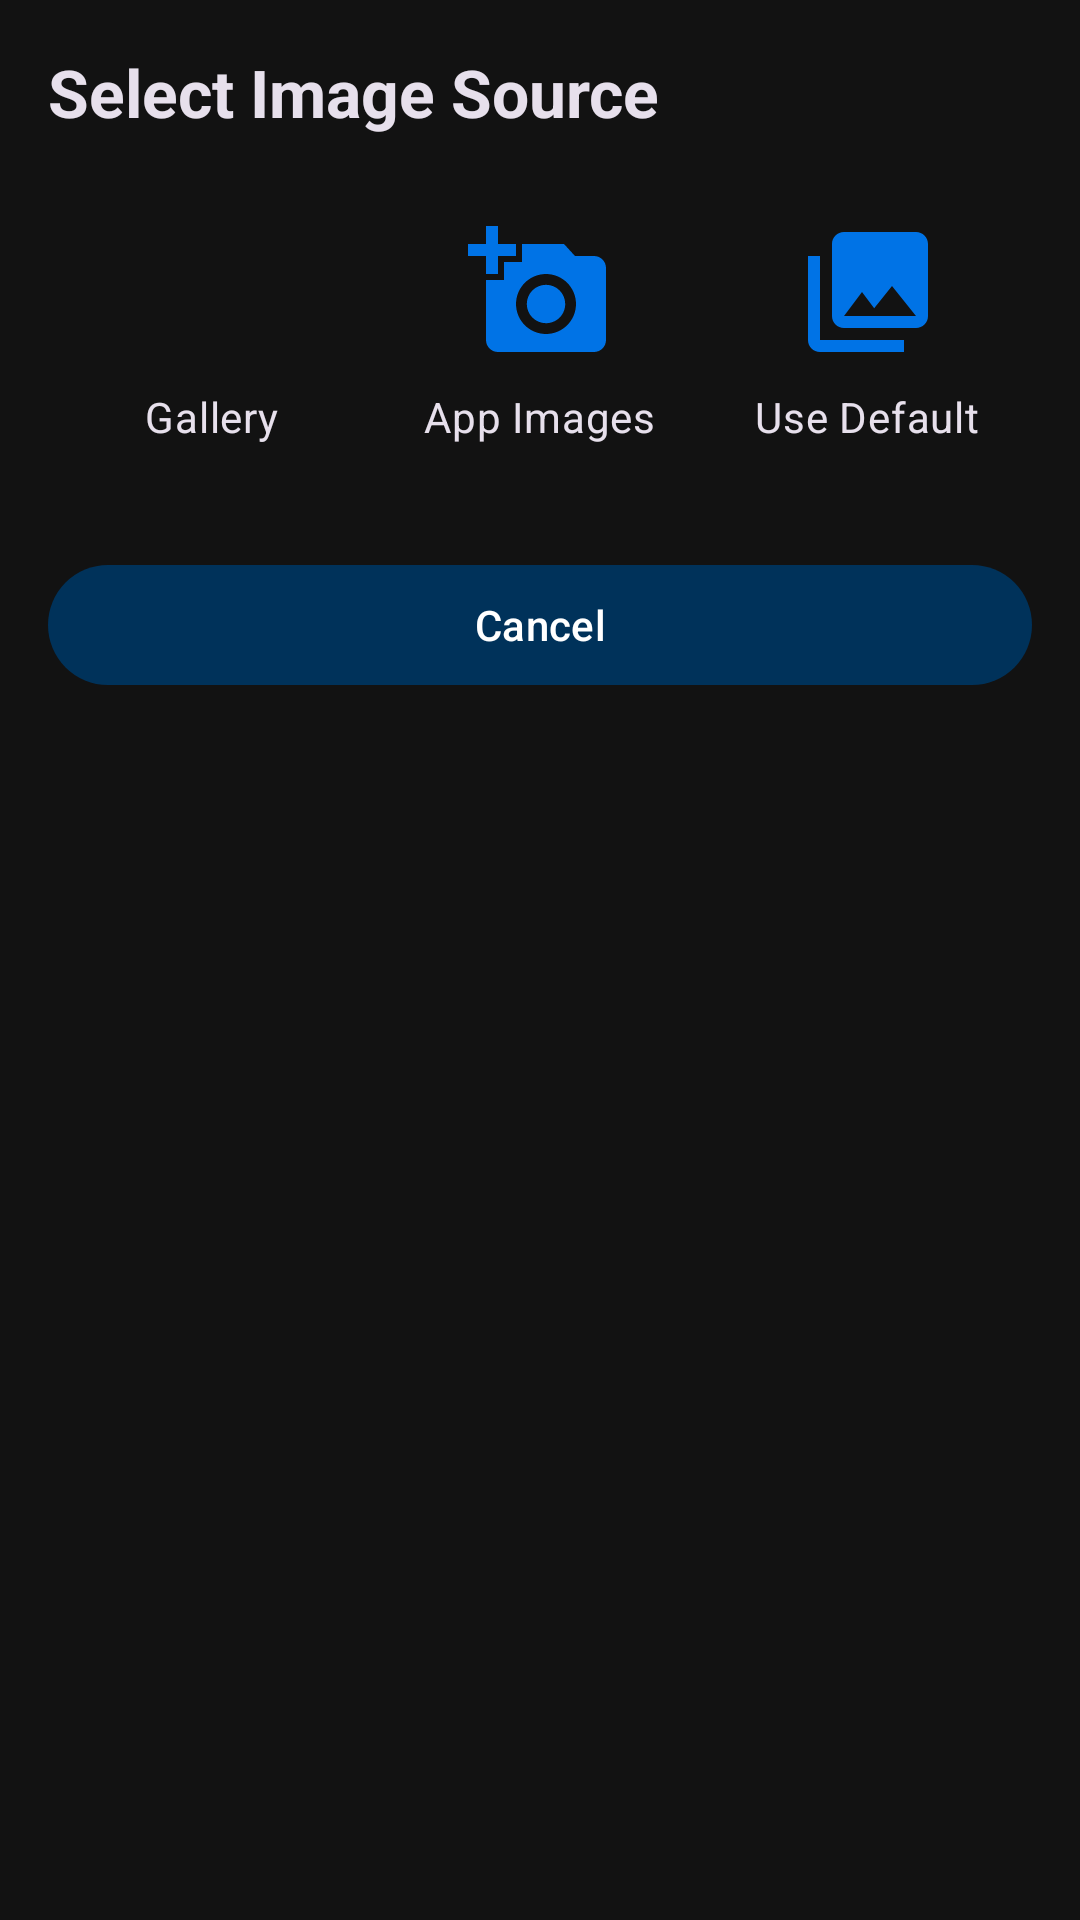

Locate icon controls on the screen. Image size 1080px x 1920px, boxes as {"x1": x1, "y1": y1, "x2": x2, "y2": y2}.
add photo: {"x1": 468, "y1": 226, "x2": 606, "y2": 352}
photo library: {"x1": 808, "y1": 232, "x2": 928, "y2": 352}
